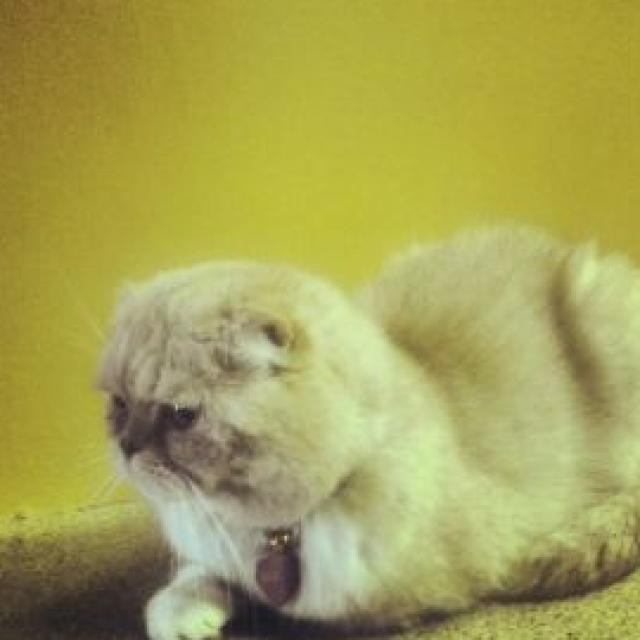Scottish Fold: (87, 218, 640, 640)
